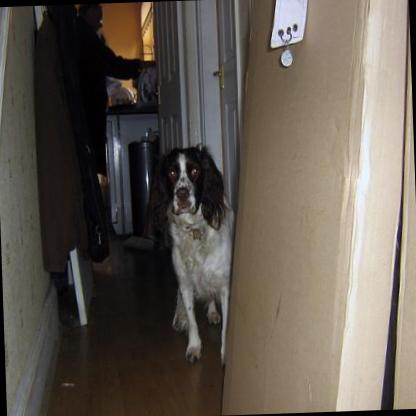English_springer: (149, 144, 239, 364)
